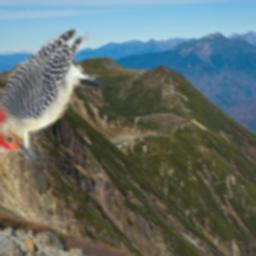Woodpecker: (0, 29, 105, 160)
